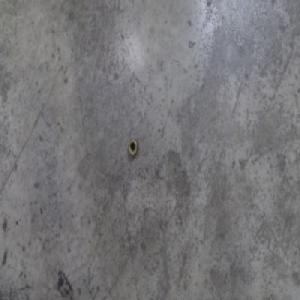Nut: (127, 137, 138, 158)
